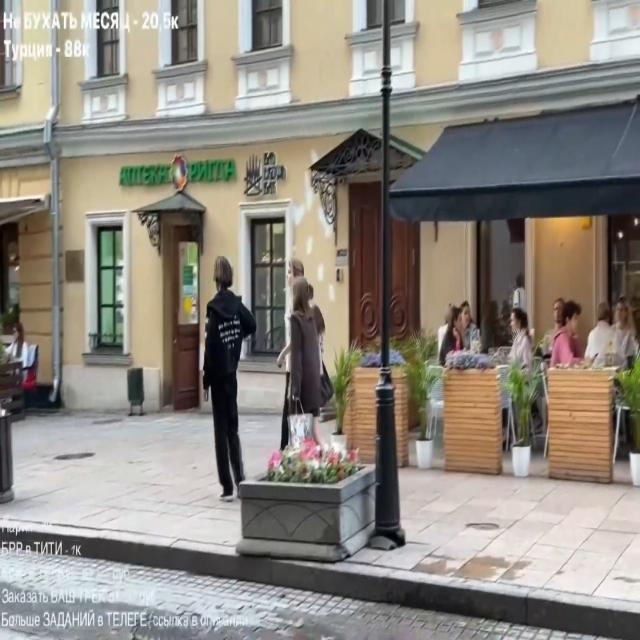Person: (200, 259, 258, 501), (280, 268, 328, 454), (584, 299, 638, 369), (438, 301, 483, 366), (549, 302, 586, 367), (506, 311, 535, 368)
